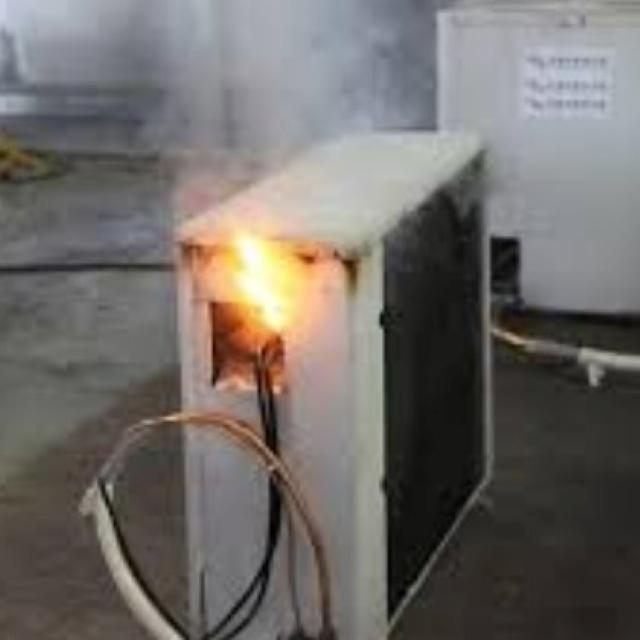Fire: (222, 222, 306, 345)
